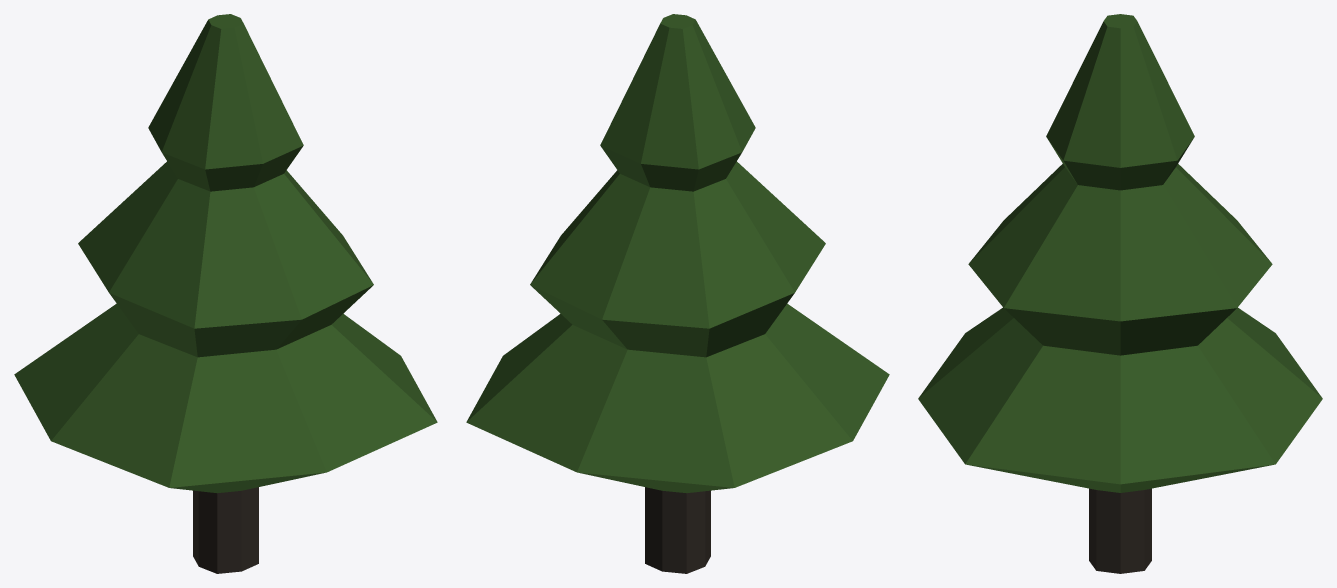
File: Prototype_Tree_01.fbx
The picture shows the model from 3 angles, left to right: view 1: azimuth 30°, elevation 25°; view 2: azimuth 150°, elevation 25°; view 3: azimuth 270°, elevation 25°; orthographic projection.
Visible parts, largest first — view 1: Cube; view 2: Cube; view 3: Cube.
Part boxes in pixels (x1,y1,x2,y2): Cube: (14,14,437,573); Cube: (466,14,889,573); Cube: (918,14,1322,573).
Size of the model in its own units: 251 by 370 by 251.
